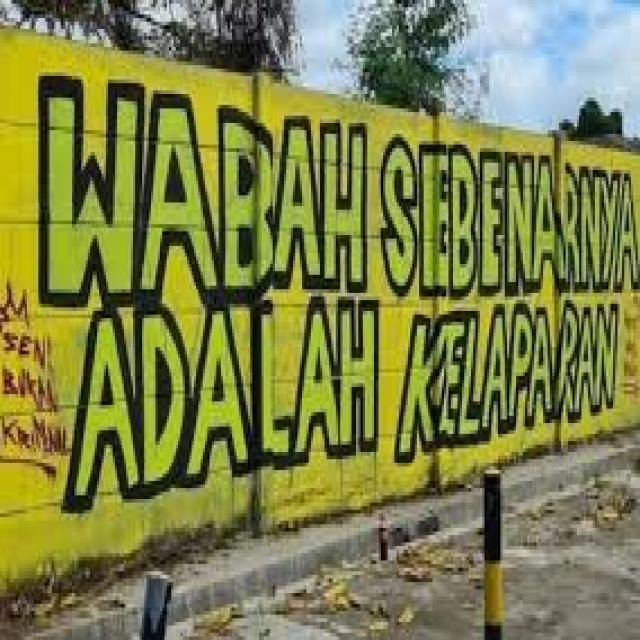-: (40, 74, 640, 514), (0, 280, 70, 480)
